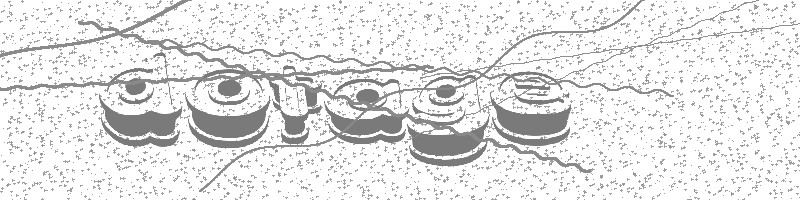a: (322, 75, 407, 146)
d: (99, 50, 179, 145)
e: (489, 71, 574, 146)
g: (408, 73, 489, 168)
o: (182, 66, 272, 149)
t: (266, 64, 320, 148)
